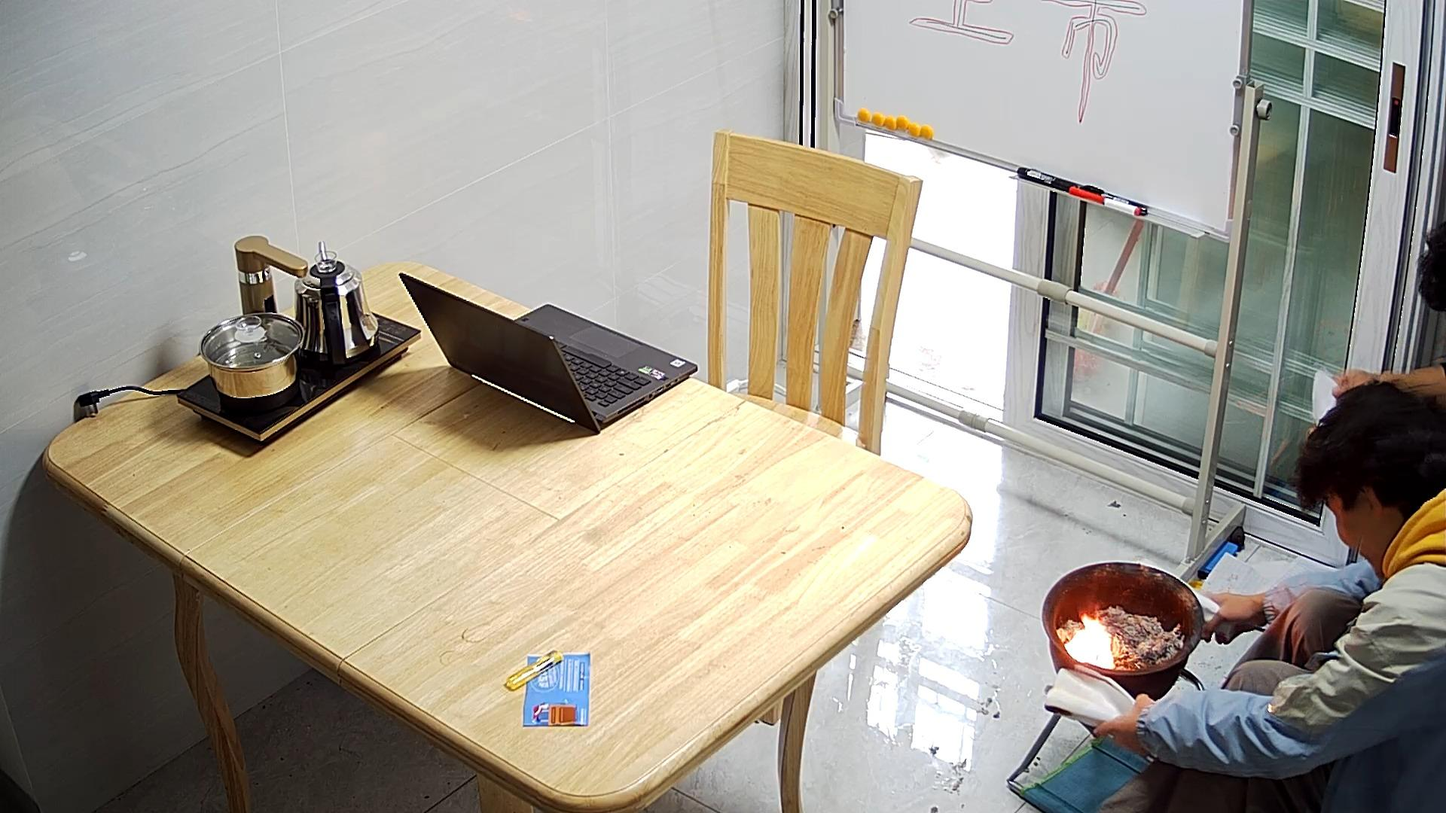fire: (1065, 616, 1113, 668)
